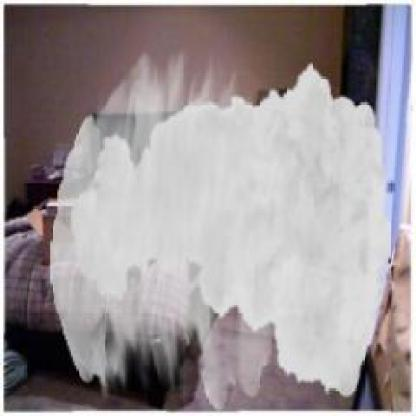Smoke: (50, 48, 392, 411)
